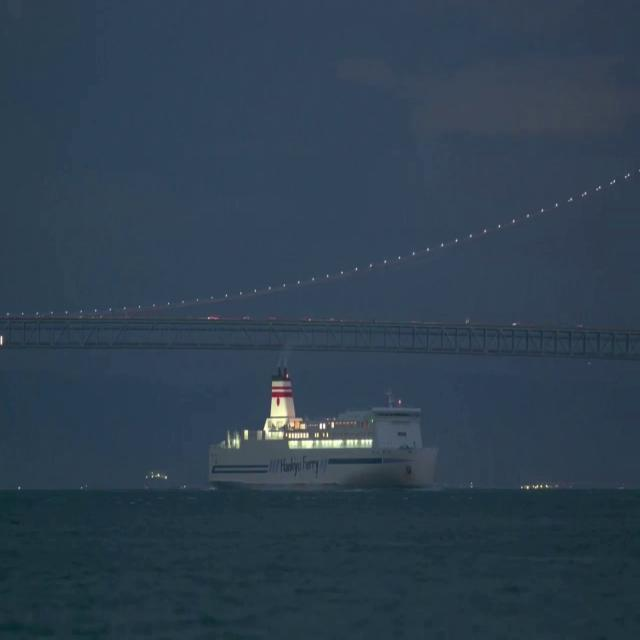OCR: (277, 452, 322, 481)
